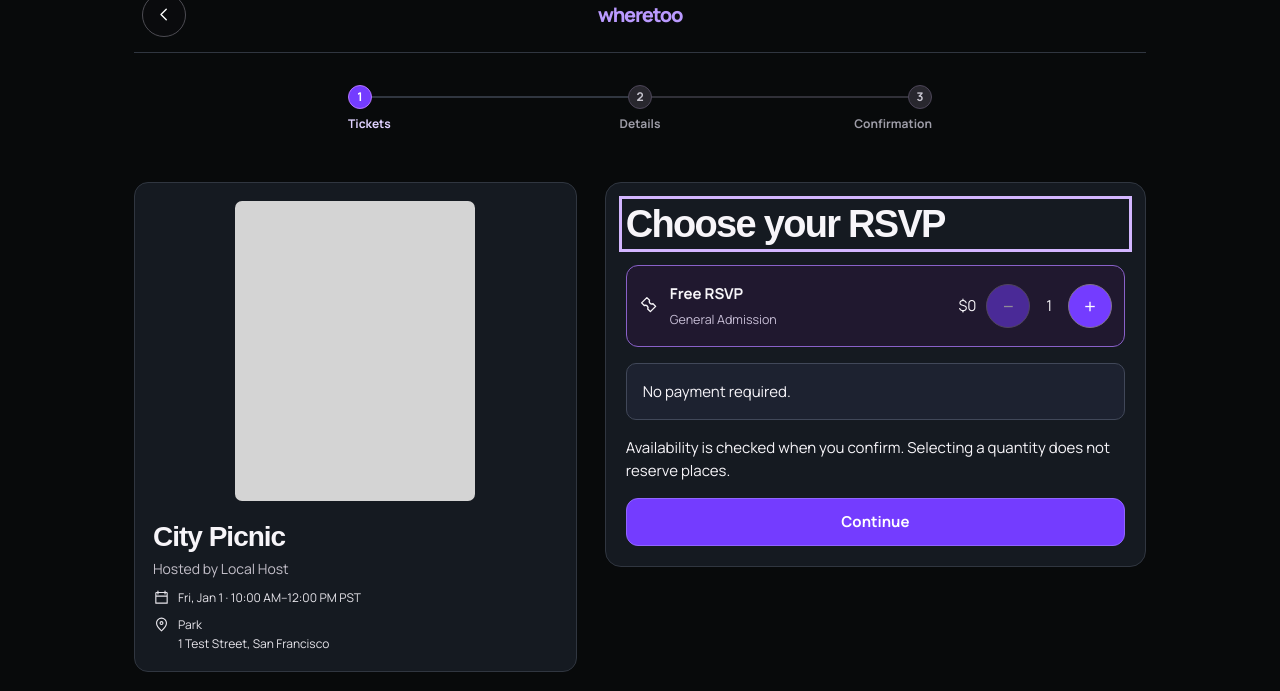
it: blocks a details quantity that exceeds newly refreshed remaining capacity
(page scrolled)
What coordinates should you click on to do the following:
click the button named "Increase quantity"
I would click on:
 (1090, 306)
Its box is [1068, 284, 1112, 328].
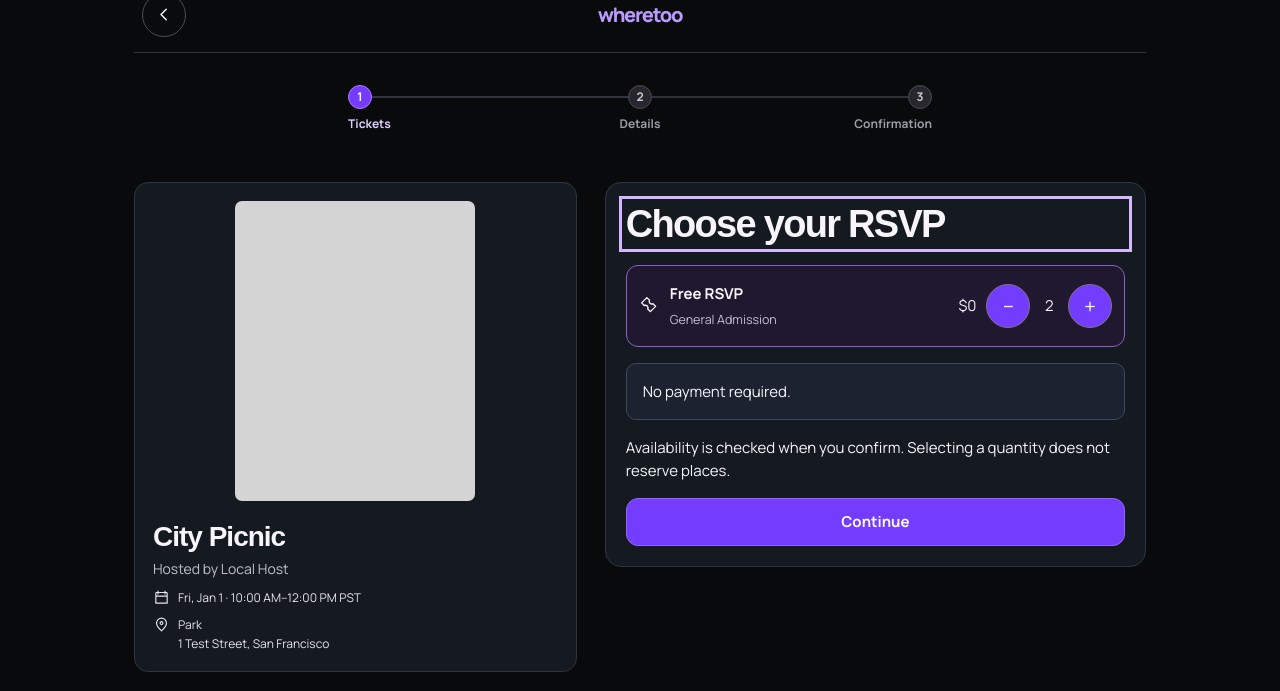
What coordinates should you click on to do the following:
click the button "Continue"
I would click on:
 (875, 522)
Its box is [626, 498, 1125, 546].
Wait 15001 ms
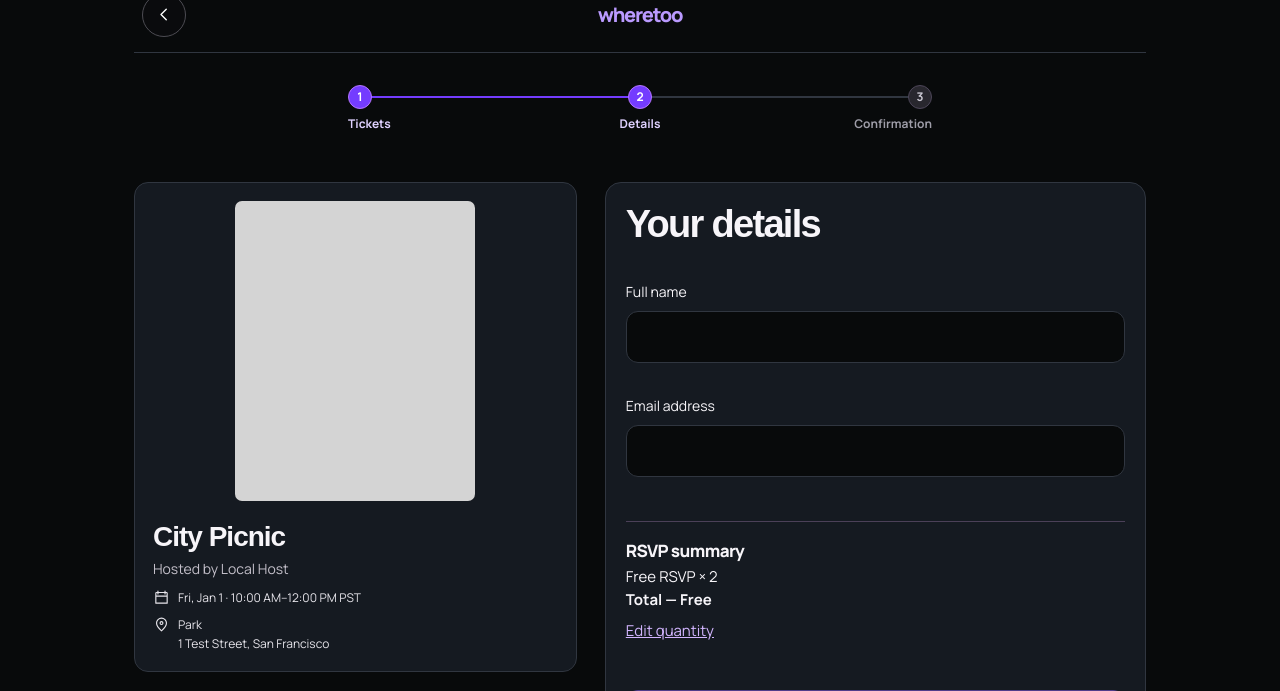
What coordinates should you click on to do the following:
click the button "Edit quantity"
I would click on:
 (670, 631)
Its box is [626, 611, 714, 650].
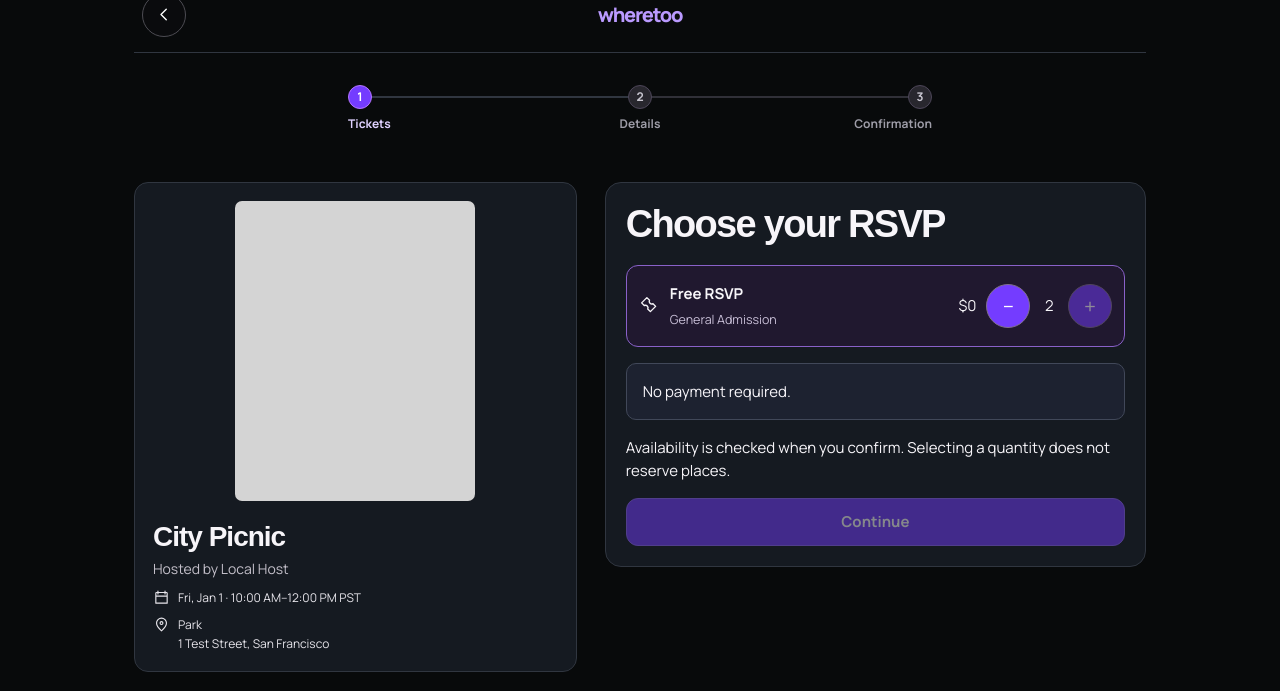
Expected: the button "Continue" is disabled, [626, 498, 1125, 546]
What coordinates should you click on to do the following:
click the button named "Decrease quantity"
I would click on:
 (1008, 306)
Its box is [986, 284, 1030, 328].
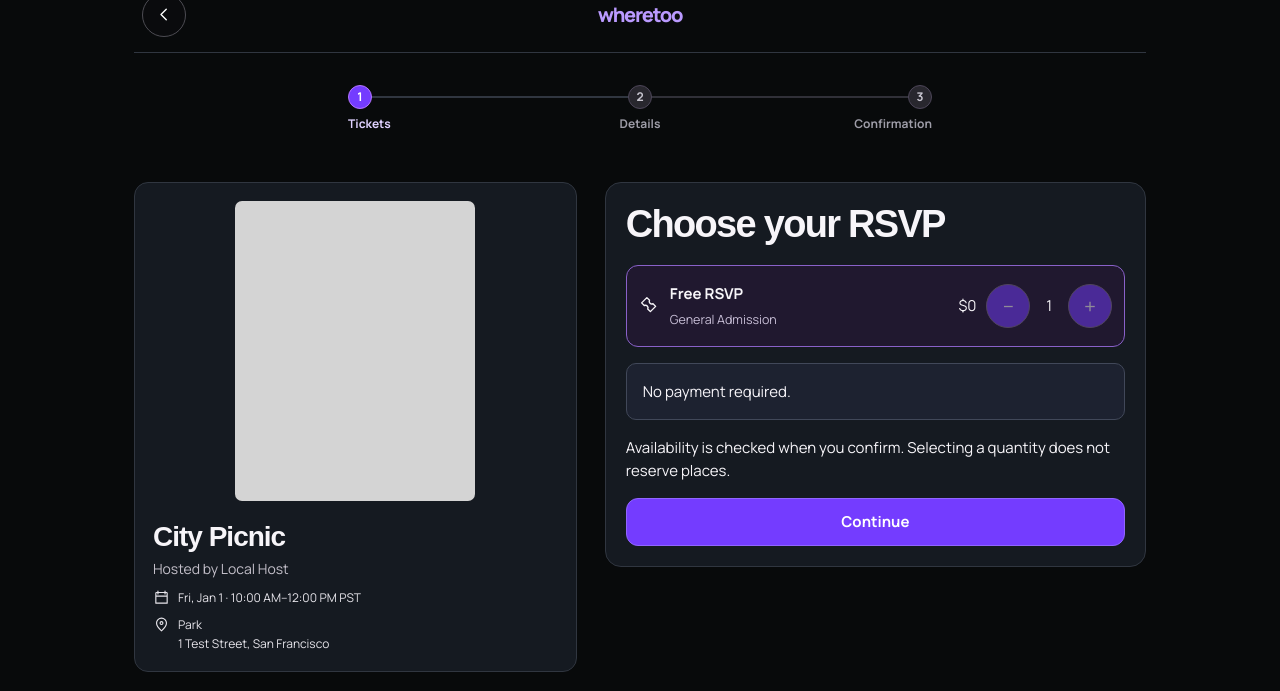
Expected: the button "Continue" is enabled, [626, 498, 1125, 546]
